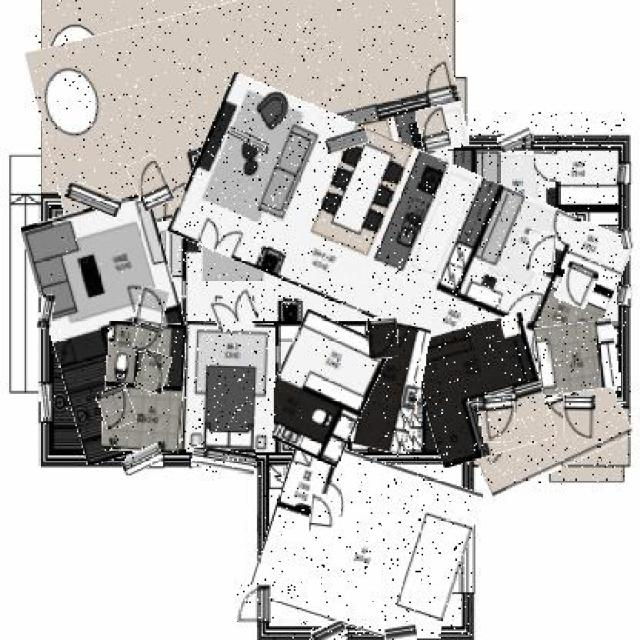door: (131, 157, 171, 209), (480, 394, 515, 443), (557, 263, 595, 308), (212, 292, 257, 330), (98, 386, 136, 428), (418, 106, 449, 151), (137, 351, 171, 392), (563, 396, 595, 438), (237, 585, 272, 623), (368, 318, 398, 358), (136, 289, 166, 329), (311, 495, 340, 534), (528, 232, 555, 272), (536, 150, 566, 182), (134, 324, 161, 356)
window: (192, 449, 255, 474), (65, 185, 122, 212), (122, 448, 163, 472), (326, 131, 368, 152), (226, 132, 271, 151), (498, 128, 532, 149), (310, 621, 346, 640), (384, 621, 417, 640), (38, 296, 54, 330), (40, 383, 51, 417), (618, 286, 631, 305), (617, 164, 629, 184), (622, 228, 630, 249)
zone: (176, 112, 626, 362), (32, 0, 459, 218), (37, 198, 200, 458), (256, 447, 472, 640), (418, 320, 551, 462), (265, 317, 380, 461), (471, 388, 631, 484), (184, 323, 276, 451), (104, 322, 184, 452), (359, 322, 426, 452), (538, 322, 618, 392)
